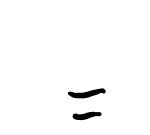eqv: (67, 89, 106, 121)
